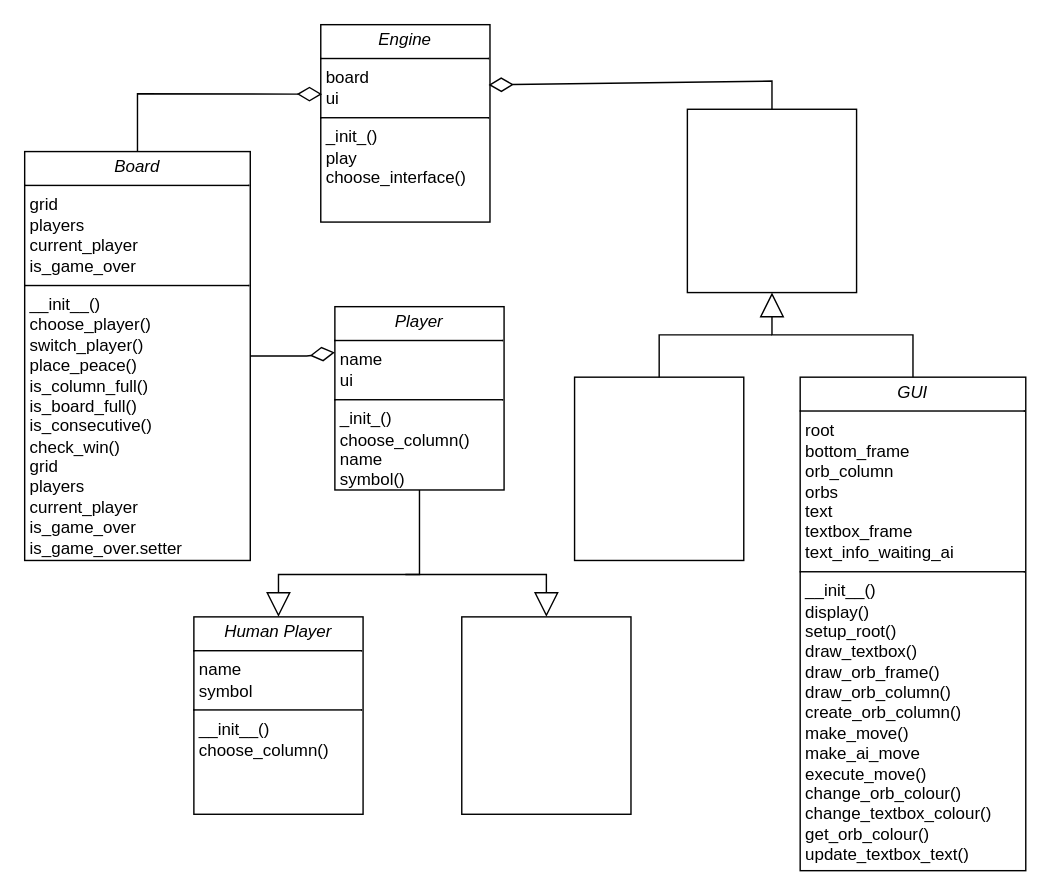
Image size: 1050x895. Some labels were removed from this diagram. The centre of each missing label's shape, as x and y in pixels:
AI Player name symbol __init__() choose_column(): the point at 545,714
Console Interface board _init_() display(): the point at 658,468
UI board __init_() display(): the point at 771,200
